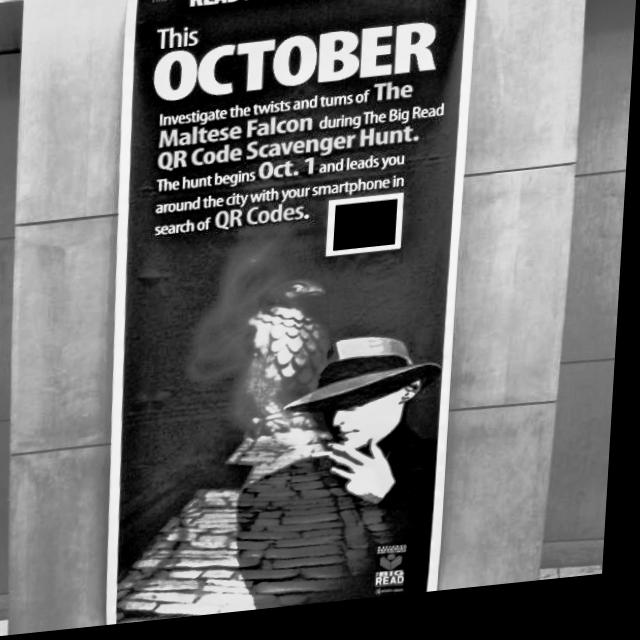qr_code: (337, 208, 401, 258)
